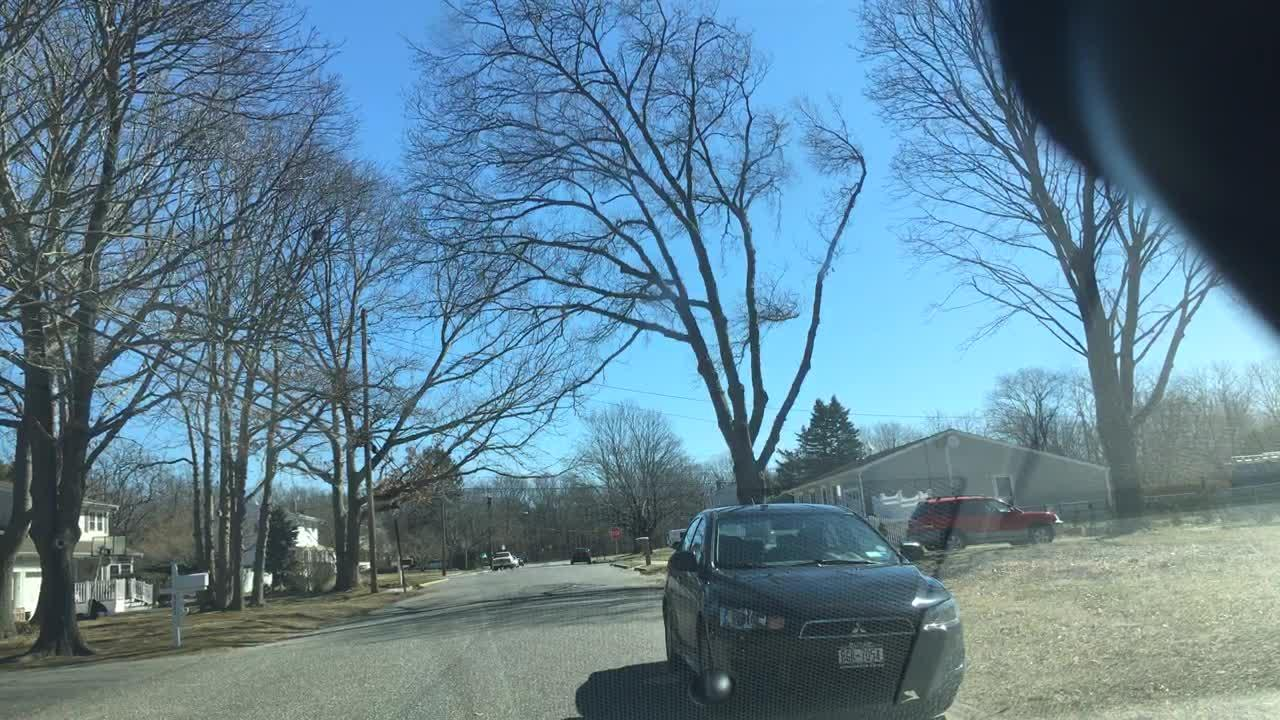Mitsubishi: (839, 615, 877, 642)
